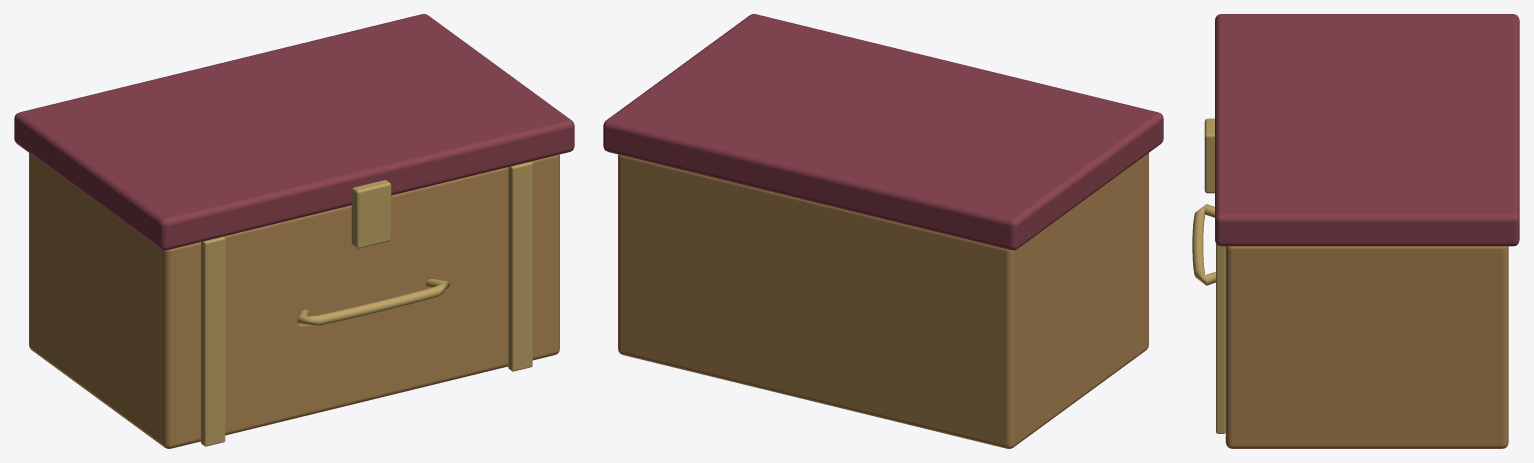
File: abandoned-puppet-theatre-and-prop-vault-property-stora-20930b33.glb
The picture shows the model from 3 angles, left to right: view 1: azimuth 30°, elevation 25°; view 2: azimuth 150°, elevation 25°; view 3: azimuth 270°, elevation 25°; orthographic projection.
Visible parts, largest first — view 1: property-storage-trunk; view 2: property-storage-trunk; view 3: property-storage-trunk.
Boxes of the visible parts, x1,y1,x2,y2 form: property-storage-trunk: (14, 14, 574, 448); property-storage-trunk: (603, 14, 1163, 448); property-storage-trunk: (1192, 14, 1519, 448).
Size of the model in its own units: 0.89 by 0.485 by 0.6014.
